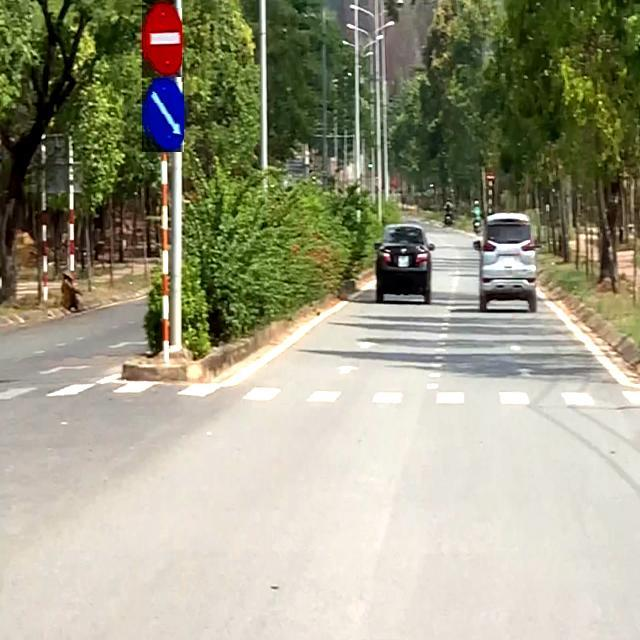P-102: (142, 0, 182, 77)
R-302a: (142, 77, 184, 152)
